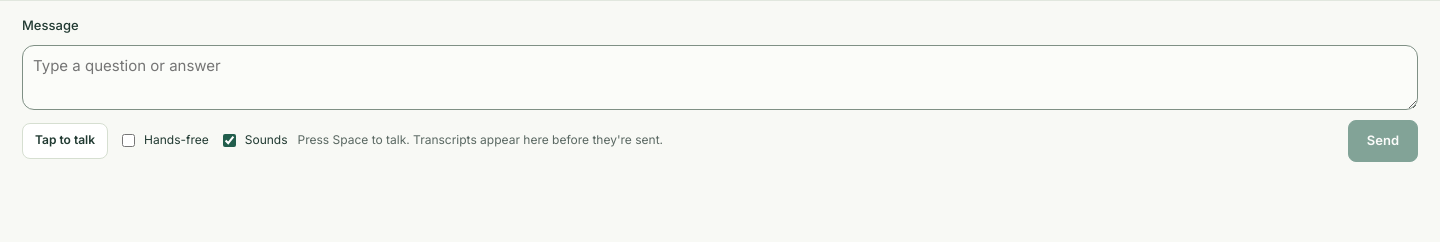
Test: voice polish › tap-to-talk stops itself after 10 s of silence, keeping what was said
Click the button "Tap to talk" at [65, 141], box [22,123,108,159]
Wait 11000 ms
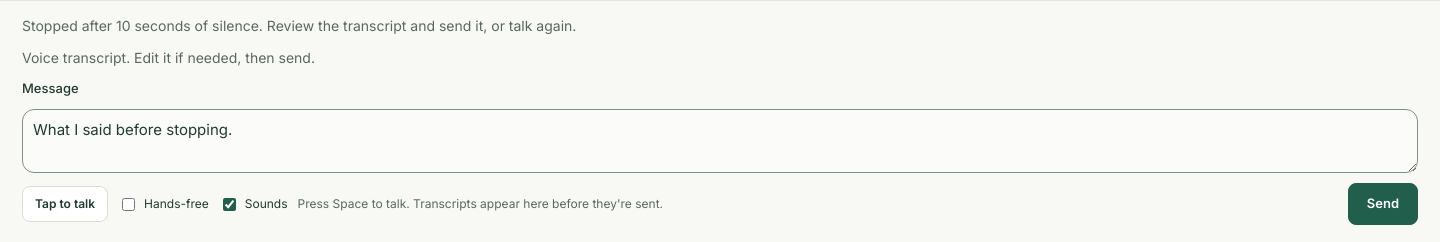
expect the text "Stopped after 10 seconds of silence" is shown: met, box [22,17,576,34]
expect the text box labelled "Message" holds "What I said before stopping.": met, box [22,108,1418,173]
